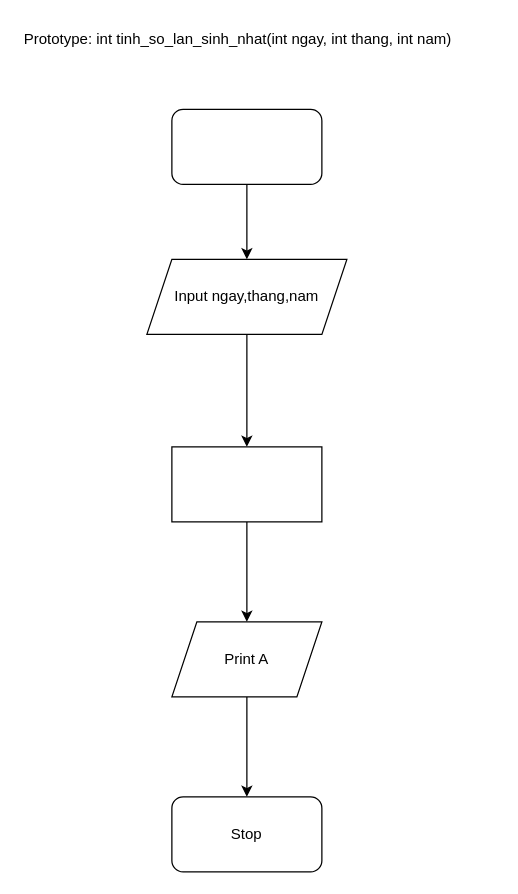
Some shapes in this 518 by 894 pixel diagram are drawn without their labels. Each missing label, with the centre of its shape:
"A <- 2000 - nam" belongs at point (246, 484).
"Start" belongs at point (246, 146).
